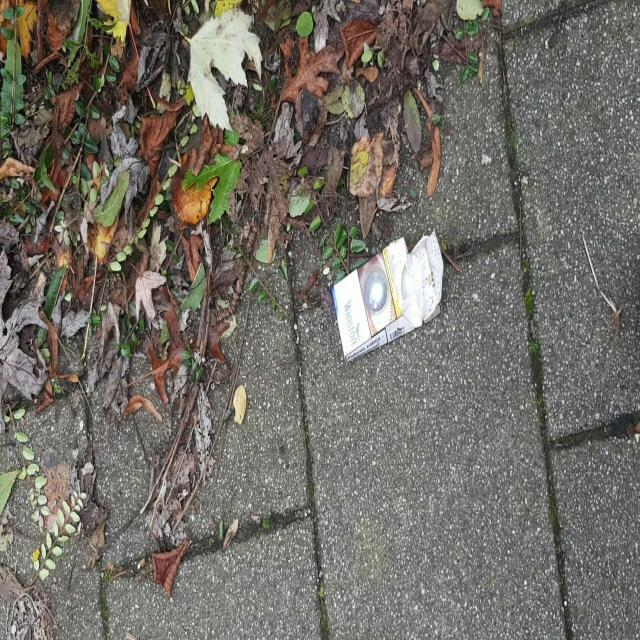Paper: (330, 228, 445, 366)
